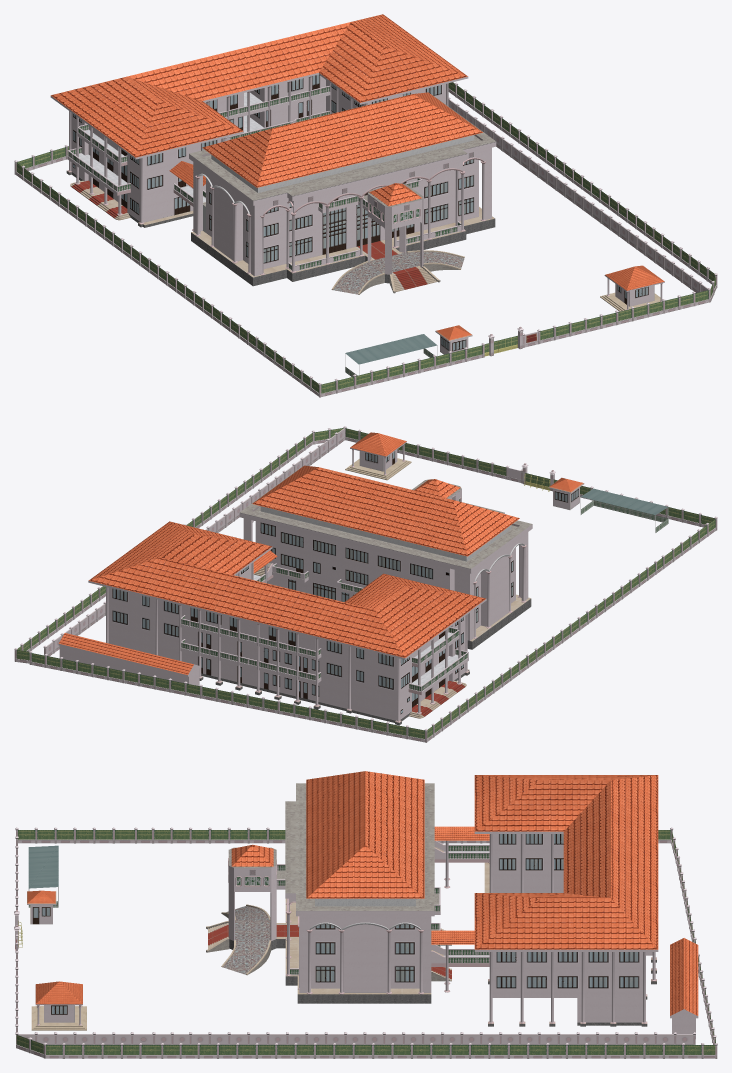
The model's file is Kho bac Nha nuoc tinh Binh Phuoc.glb.
3 renders of one model, top to bottom at view 1: azimuth 30°, elevation 25°; view 2: azimuth 150°, elevation 25°; view 3: azimuth 270°, elevation 25°, orthographic. The views are drawn at different scales.
Parts seen in each view (by area): view 1: BPH011_KhobacNhanuoctinhBinhPhuoc_nha_A, BPH011_KhobacNhanuoctinhBinhPhuoc_nha_B, BPH011_KhobacNhanuoctinhBinhPhuoc_hangrao; view 2: BPH011_KhobacNhanuoctinhBinhPhuoc_nha_B, BPH011_KhobacNhanuoctinhBinhPhuoc_nha_A, BPH011_KhobacNhanuoctinhBinhPhuoc_hangrao; view 3: BPH011_KhobacNhanuoctinhBinhPhuoc_nha_B, BPH011_KhobacNhanuoctinhBinhPhuoc_nha_A, BPH011_KhobacNhanuoctinhBinhPhuoc_hangrao.
Boxes of the visible parts, left/top/right/bottom form: BPH011_KhobacNhanuoctinhBinhPhuoc_nha_A: left=189, top=92, right=496, bottom=294; BPH011_KhobacNhanuoctinhBinhPhuoc_nha_B: left=50, top=14, right=468, bottom=230; BPH011_KhobacNhanuoctinhBinhPhuoc_hangrao: left=14, top=82, right=717, bottom=397; BPH011_KhobacNhanuoctinhBinhPhuoc_nha_B: left=58, top=521, right=486, bottom=725; BPH011_KhobacNhanuoctinhBinhPhuoc_nha_A: left=239, top=465, right=532, bottom=649; BPH011_KhobacNhanuoctinhBinhPhuoc_hangrao: left=14, top=426, right=717, bottom=742; BPH011_KhobacNhanuoctinhBinhPhuoc_nha_B: left=431, top=775, right=698, bottom=1038; BPH011_KhobacNhanuoctinhBinhPhuoc_nha_A: left=206, top=771, right=451, bottom=1003; BPH011_KhobacNhanuoctinhBinhPhuoc_hangrao: left=14, top=827, right=717, bottom=1058.
Bounding box in the file's own units: 74.45 × 21.15 × 102.
Materials: 3 (3 with a texture image).
